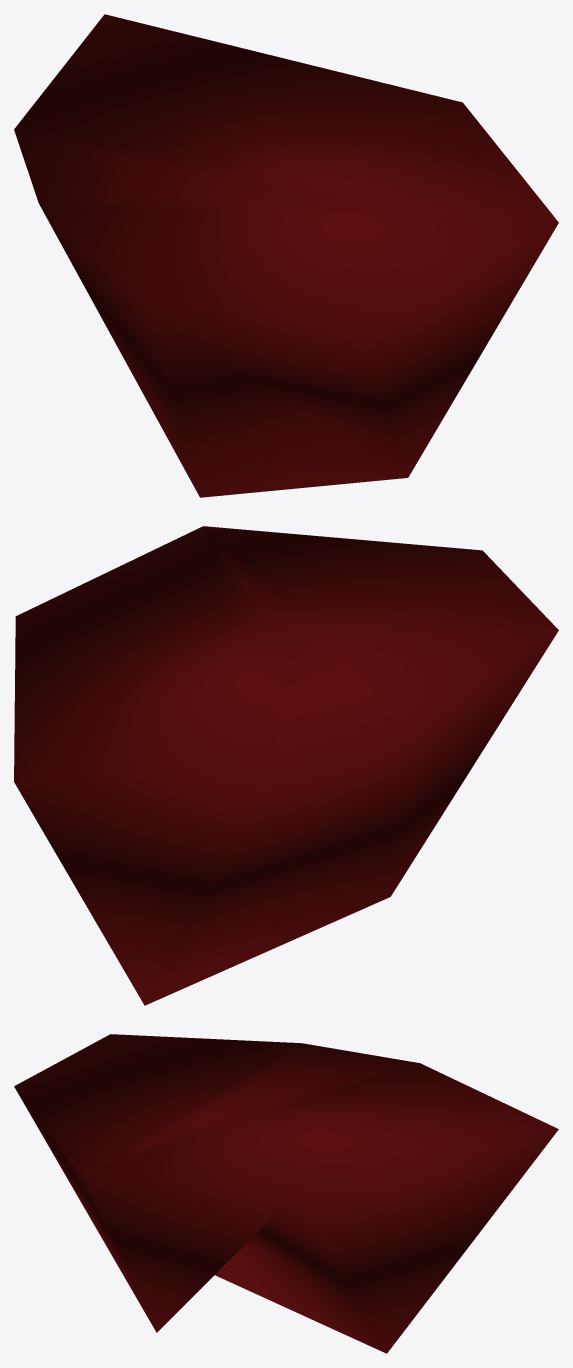
Rendered from Ile_5_Collision.FBX.
3 renders of one model, top to bottom at view 1: azimuth 30°, elevation 25°; view 2: azimuth 150°, elevation 25°; view 3: azimuth 270°, elevation 25°, orthographic. The views are drawn at different scales.
Visible parts, largest first — view 1: Ile_5_Collision; view 2: Ile_5_Collision; view 3: Ile_5_Collision.
Boxes of the visible parts, bbox=[...] form: Ile_5_Collision: bbox=[14, 14, 558, 497]; Ile_5_Collision: bbox=[14, 526, 558, 1005]; Ile_5_Collision: bbox=[14, 1034, 558, 1353].
Size of the model in its own units: 2723 by 3963 by 1861.
